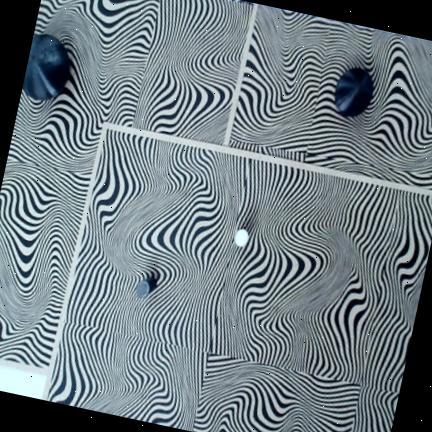Cilindro: (136, 278, 156, 298), (234, 229, 248, 247)
Esfera: (22, 34, 69, 101), (335, 68, 374, 118)
